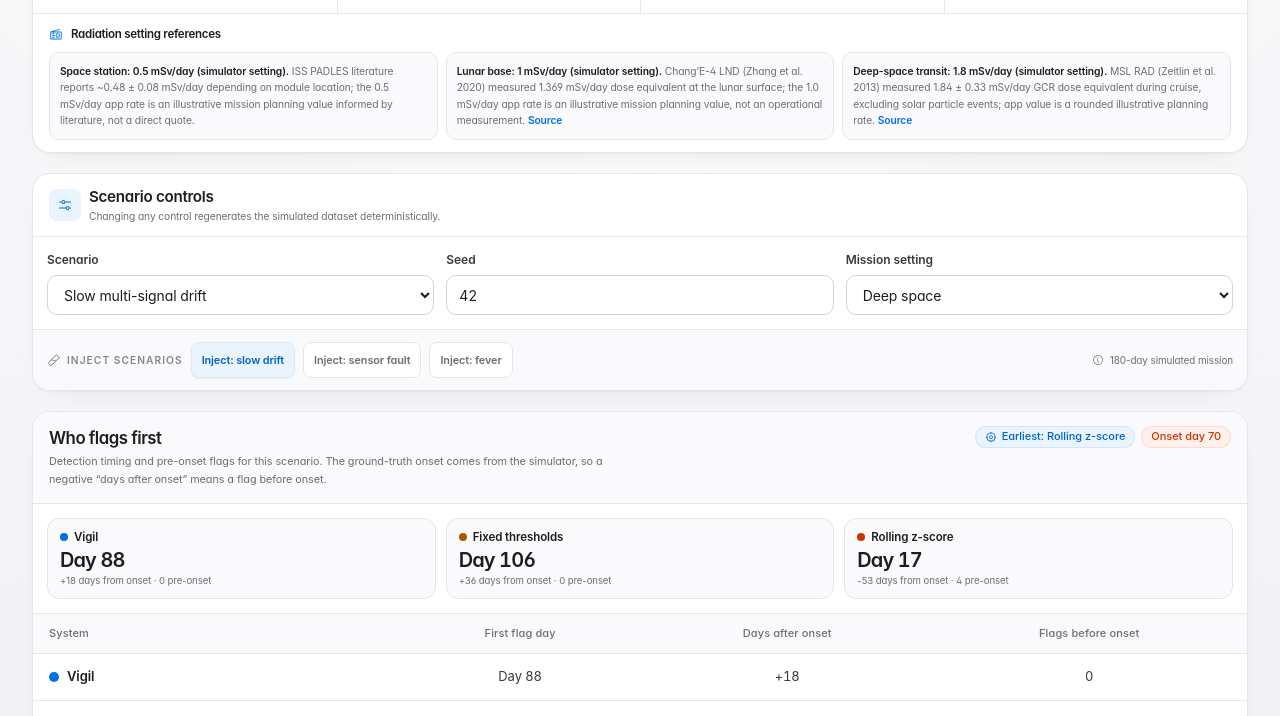
Test: U13: Scenario Lab Screen › renders controls, systems comparison table, and responds to inject buttons
(page scrolled)
Expected: the heading "Who flags first" is shown, x1=49 y1=428 x2=161 y2=448
Expected: the text "Fixed thresholds" is shown, x1=473 y1=529 x2=563 y2=546
Note: Inject buttons
Click the button "Inject: fever".
click(471, 360)  # box x1=429 y1=342 x2=513 y2=378
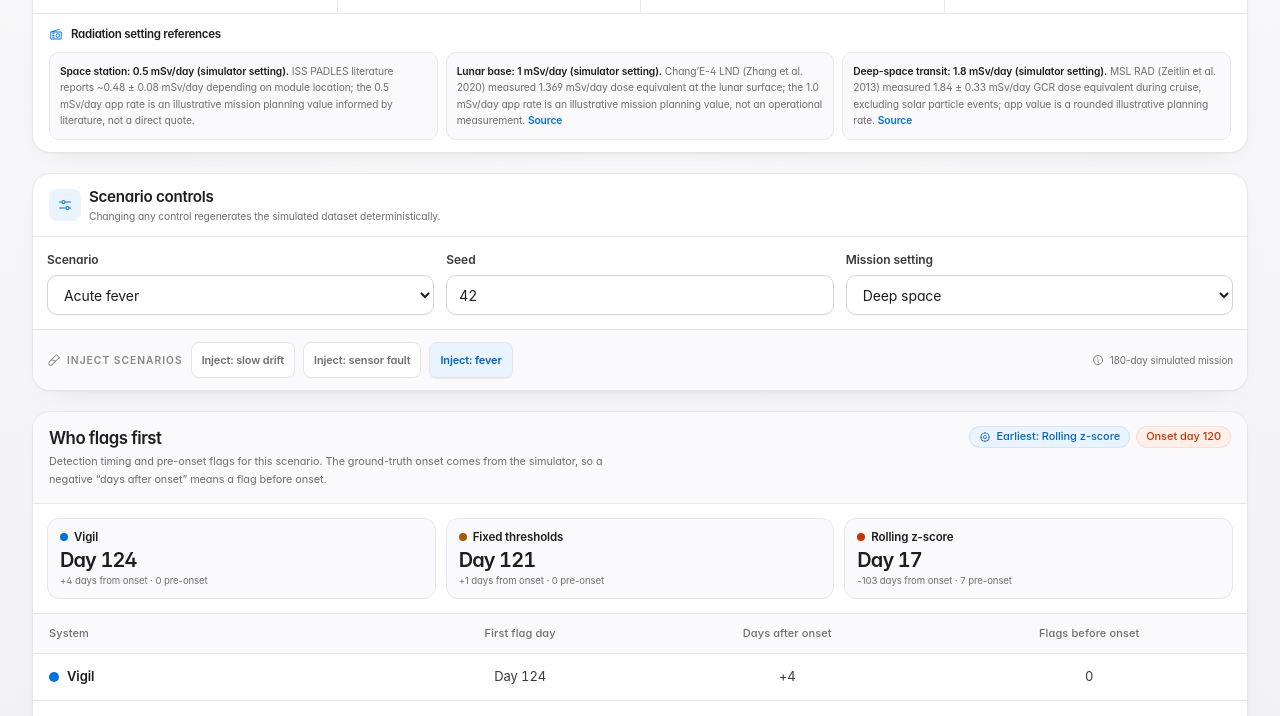
Now the dropdown labelled "Scenario" shows "Acute fever", box x1=47 y1=275 x2=434 y2=315
